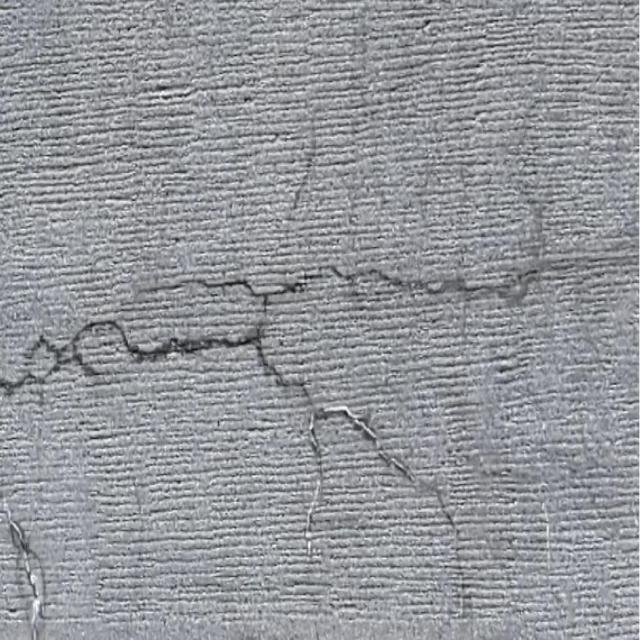Crack: (0, 202, 623, 412), (288, 410, 493, 631)
